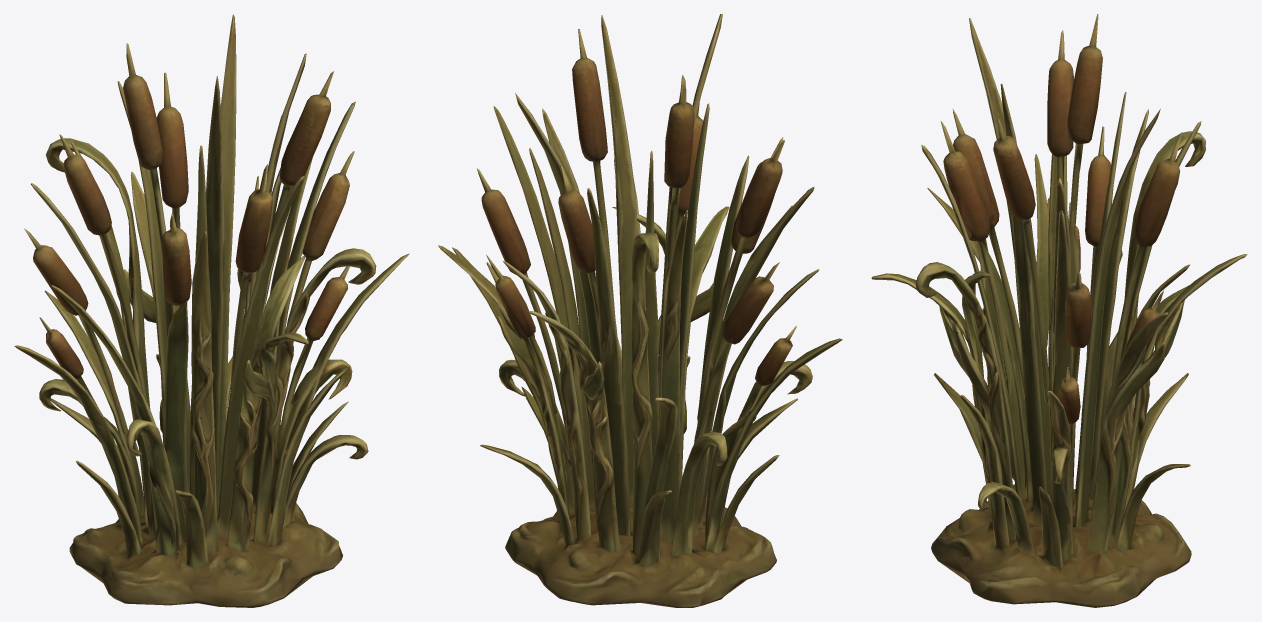
Rendered from marsh_reeds.glb.
The picture shows the model from 3 angles, left to right: view 1: azimuth 30°, elevation 25°; view 2: azimuth 150°, elevation 25°; view 3: azimuth 270°, elevation 25°; orthographic projection.
Visible parts, largest first — view 1: tripo_node_2b25e5c1-3bc7-45eb-a8ba-e1e4610b20b8; view 2: tripo_node_2b25e5c1-3bc7-45eb-a8ba-e1e4610b20b8; view 3: tripo_node_2b25e5c1-3bc7-45eb-a8ba-e1e4610b20b8.
Boxes of the visible parts, x1,y1,x2,y2 form: tripo_node_2b25e5c1-3bc7-45eb-a8ba-e1e4610b20b8: [14, 14, 409, 607]; tripo_node_2b25e5c1-3bc7-45eb-a8ba-e1e4610b20b8: [438, 14, 842, 607]; tripo_node_2b25e5c1-3bc7-45eb-a8ba-e1e4610b20b8: [871, 14, 1247, 607].
Bounding box in the file's own units: 0.7719 × 0.9771 × 0.6423.
1 material, 1 textured.
